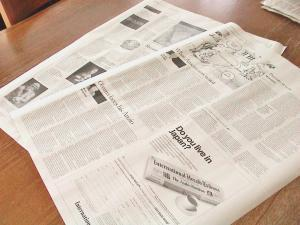paper: (0, 1, 300, 225)
